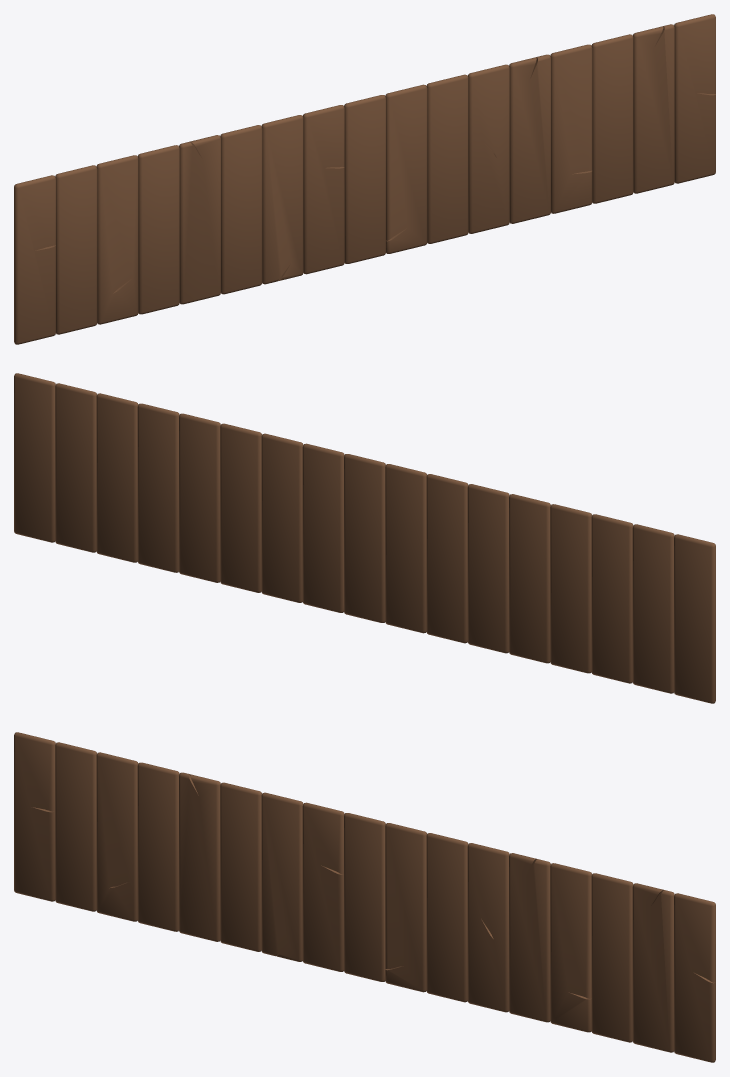
File: FruitSensei_Planks.fbx
The picture shows the model from 3 angles, top to bottom: view 1: azimuth 30°, elevation 25°; view 2: azimuth 150°, elevation 25°; view 3: azimuth 330°, elevation 25°; orthographic projection.
Visible parts, largest first — view 1: Planks.001; view 2: Planks.001; view 3: Planks.001.
Part boxes in pixels (x1=…): Planks.001: x1=14, y1=14, x2=715, y2=344; Planks.001: x1=14, y1=373, x2=715, y2=703; Planks.001: x1=14, y1=732, x2=715, y2=1062.
Size of the model in its own units: 733 by 160 by 6.
